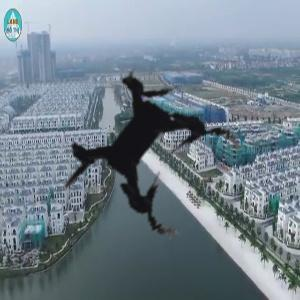drone: (6, 6, 290, 290)
